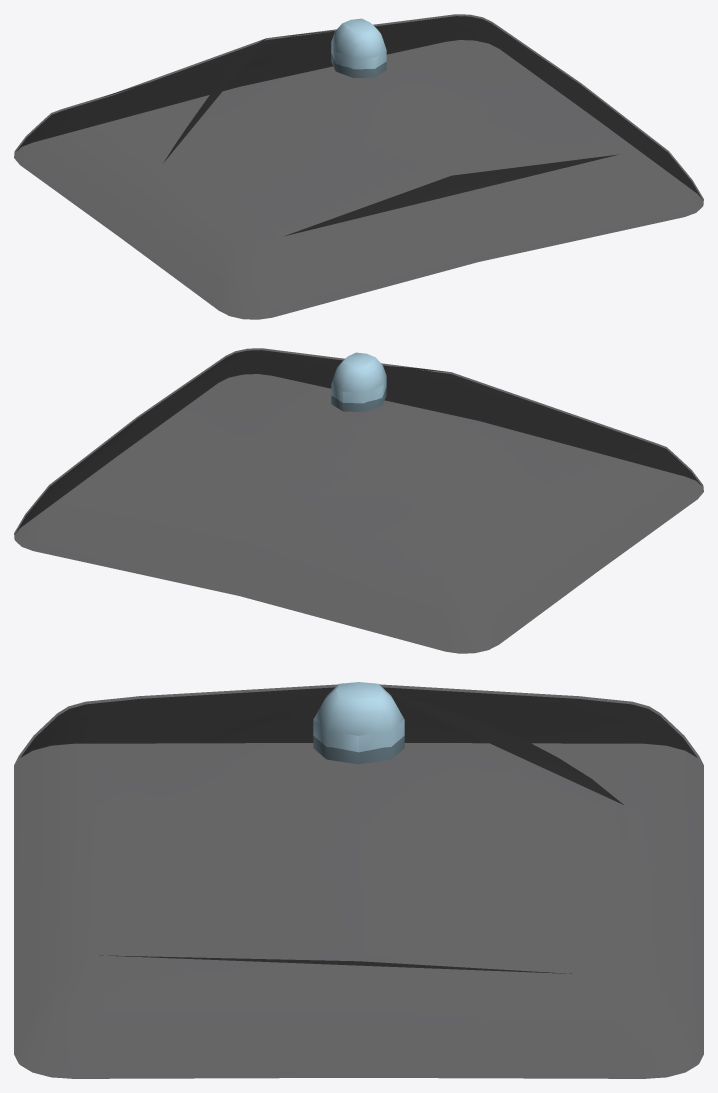
File: Glass_cone&cup.fbx
3 views of the same model, one above another, from view 1: azimuth 30°, elevation 25°; view 2: azimuth 150°, elevation 25°; view 3: azimuth 270°, elevation 25° (orthographic). The views are drawn at different scales.
Parts seen in each view (by area): view 1: Cube.082; view 2: Cube.082; view 3: Cube.082.
Boxes of the visible parts, x1,y1,x2,y2 form: Cube.082: (14, 14, 703, 319); Cube.082: (14, 348, 703, 653); Cube.082: (14, 682, 703, 1078).
Size of the model in its own units: 97.92 by 30.2 by 84.89.
